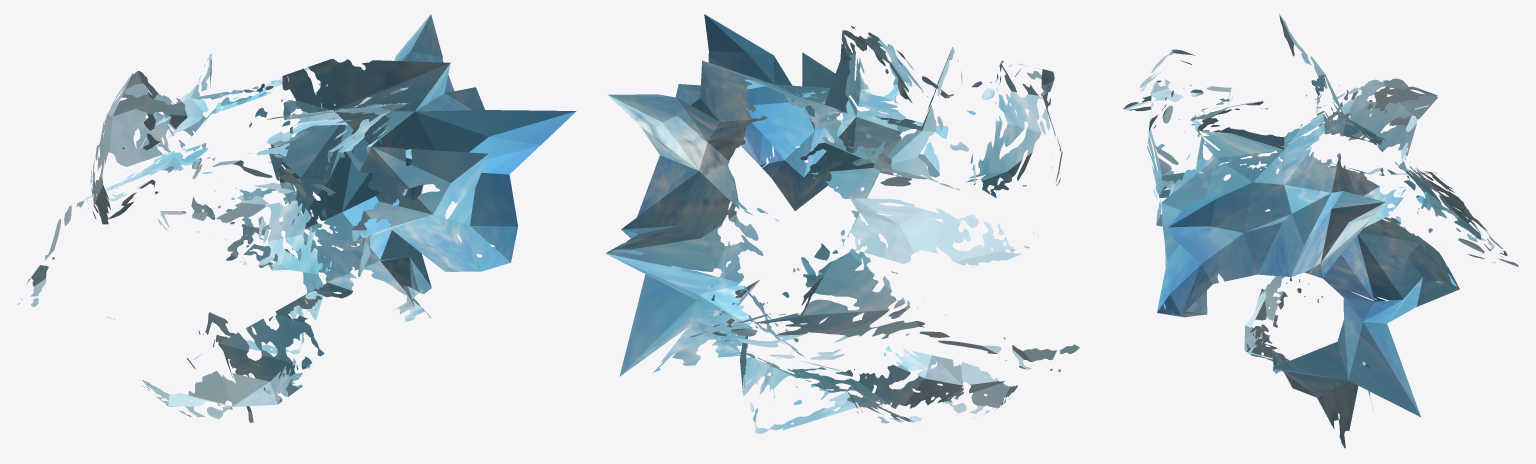
Rendered from wolverine_ltforearm_ice.glb.
The picture shows the model from 3 angles, left to right: view 1: azimuth 30°, elevation 25°; view 2: azimuth 150°, elevation 25°; view 3: azimuth 270°, elevation 25°; orthographic projection. The views are drawn at different scales.
Visible parts, largest first — view 1: wolverine_ltforearm_ice_0; view 2: wolverine_ltforearm_ice_0; view 3: wolverine_ltforearm_ice_0.
Boxes of the visible parts, bbox=[...] form: wolverine_ltforearm_ice_0: bbox=[17, 14, 576, 422]; wolverine_ltforearm_ice_0: bbox=[605, 14, 1079, 433]; wolverine_ltforearm_ice_0: bbox=[1123, 14, 1518, 448].
Bounding box in the file's own units: 13.71 × 11.15 × 11.25.
1 material, 1 textured.
